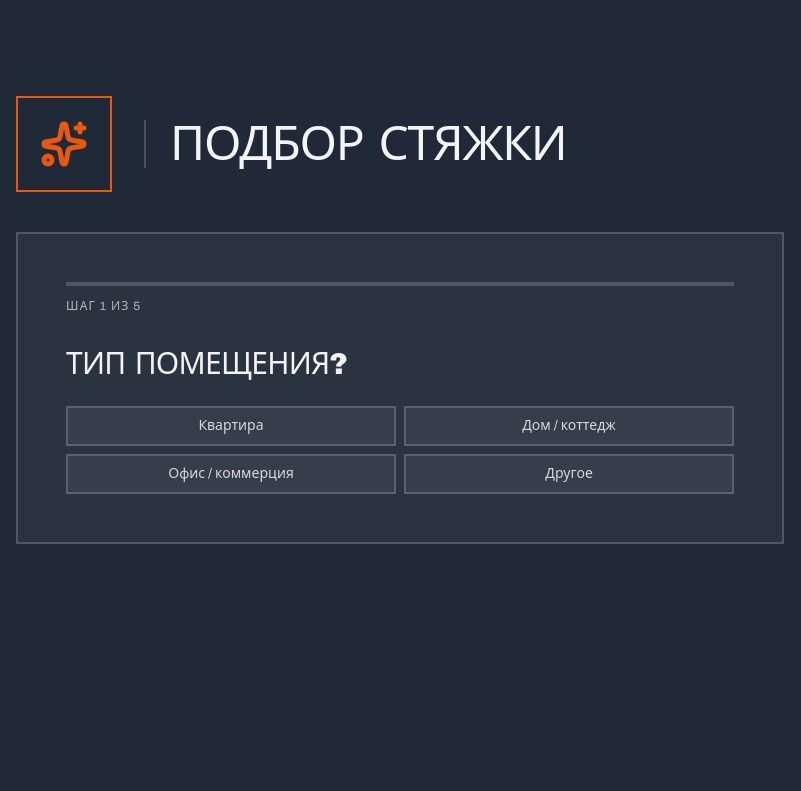
Test: Quiz › progresses step 1→5 and submits with collected answers
Click the radio button labelled "Квартира" at (231, 426), box [66, 406, 396, 446]
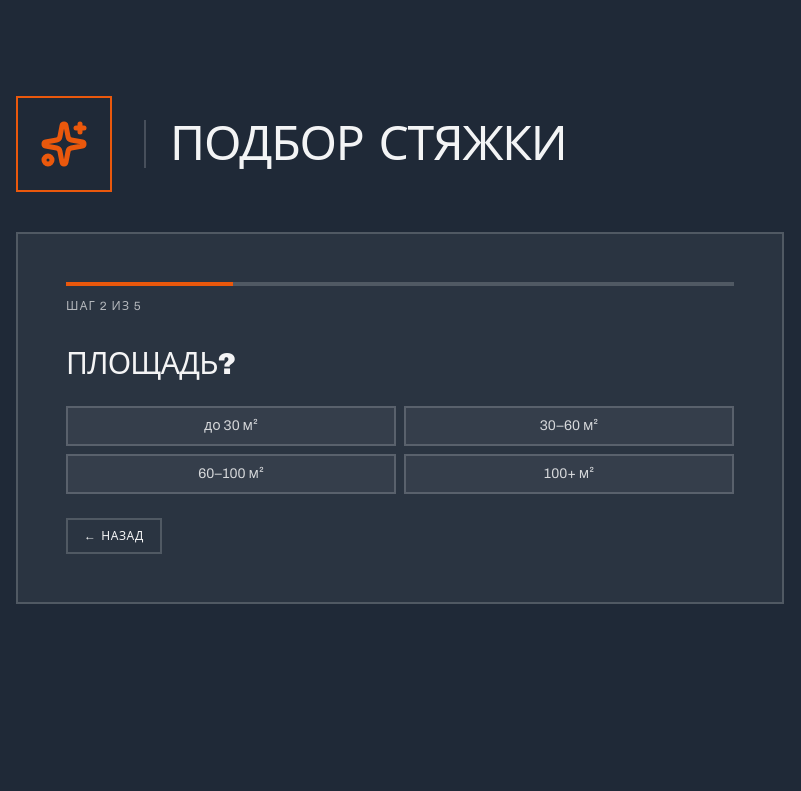
Click the radio button labelled "30–60 м²" at (569, 426), box [404, 406, 734, 446]
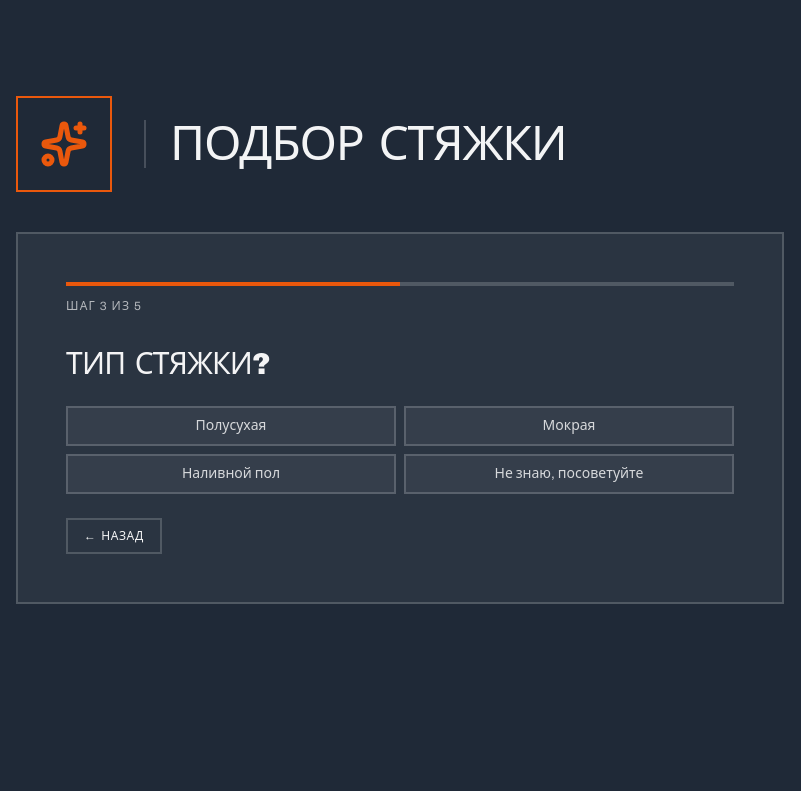
Click the radio button labelled "Полусухая" at (231, 426), box [66, 406, 396, 446]
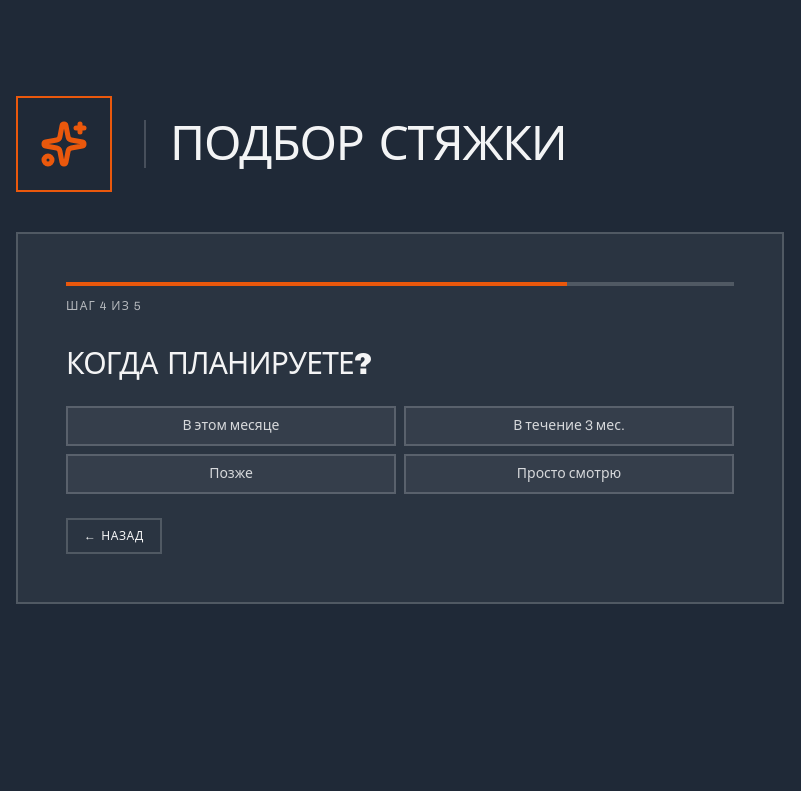
Click the radio button labelled "В этом месяце" at (231, 426), box [66, 406, 396, 446]
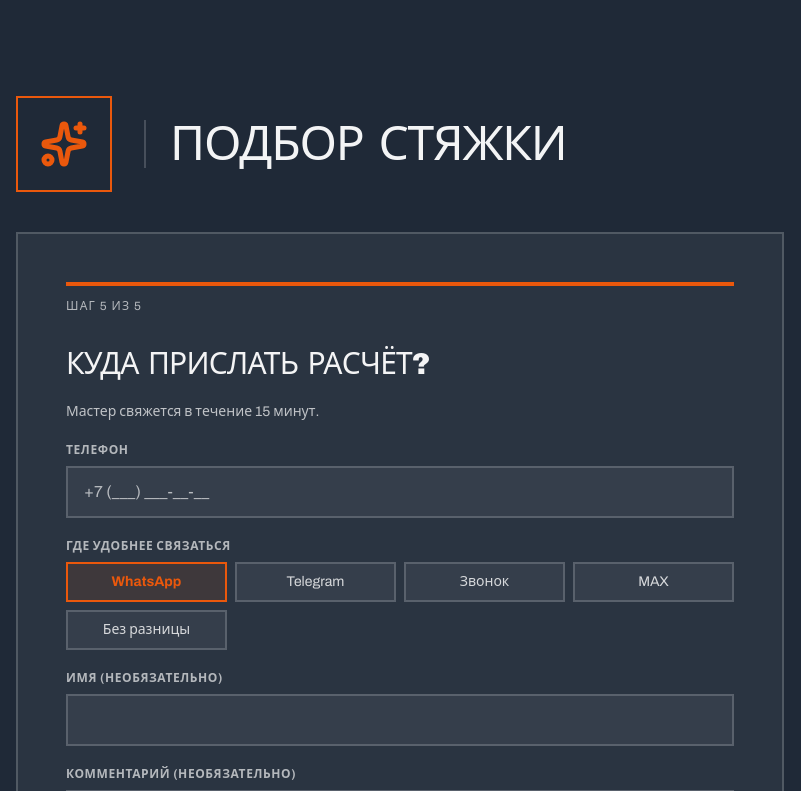
Type "+79991234567" into the field labelled "Телефон" at (400, 492), box [66, 466, 734, 518]
(page scrolled)
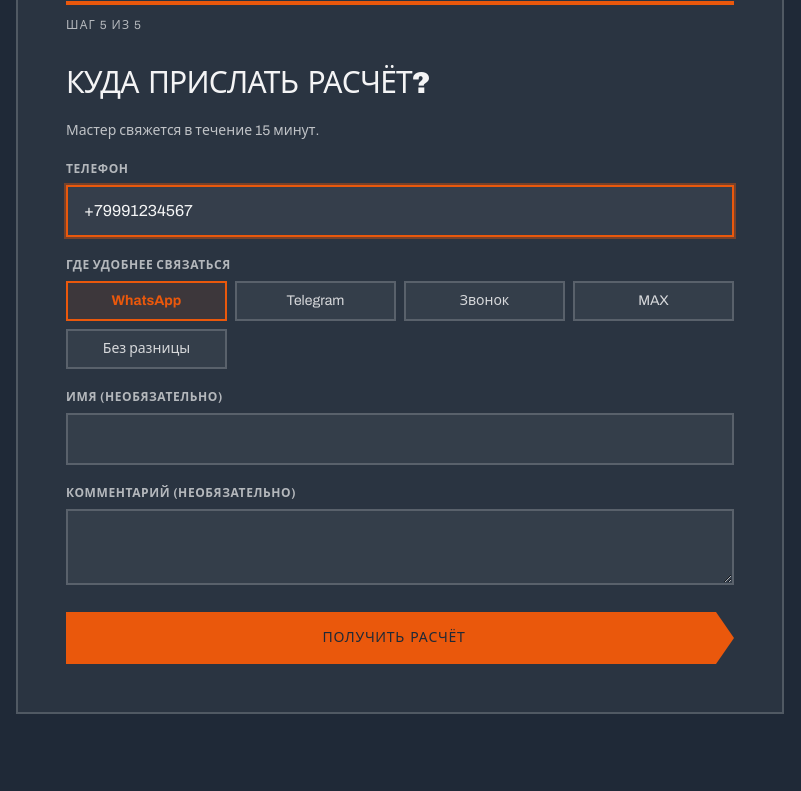
Click the button "Получить расчёт" at (400, 638), box [66, 612, 734, 664]
(page scrolled)
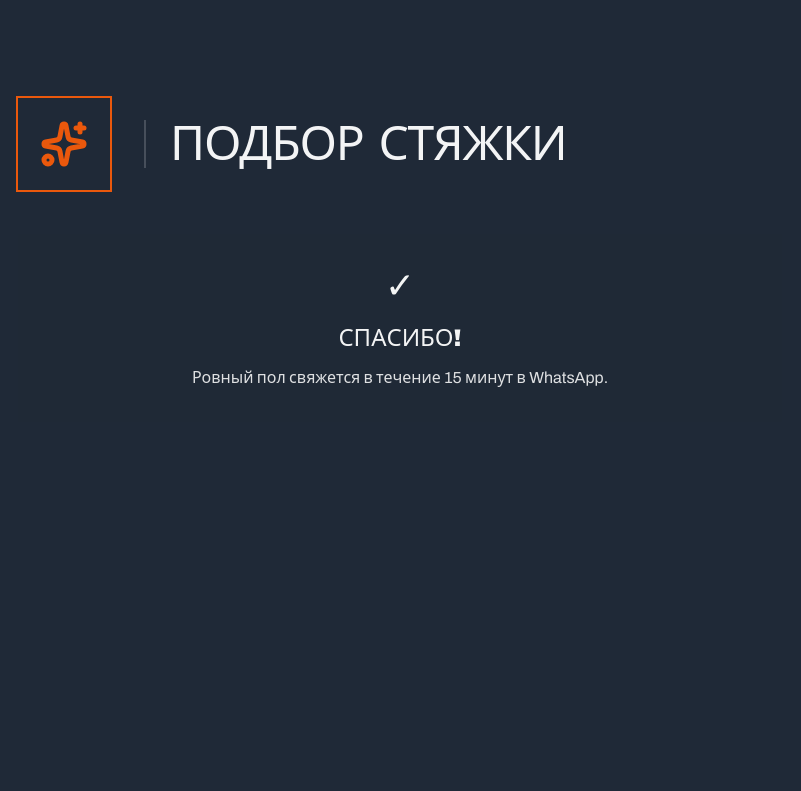
Now the heading "Спасибо!" is shown, box [338, 325, 462, 351]
